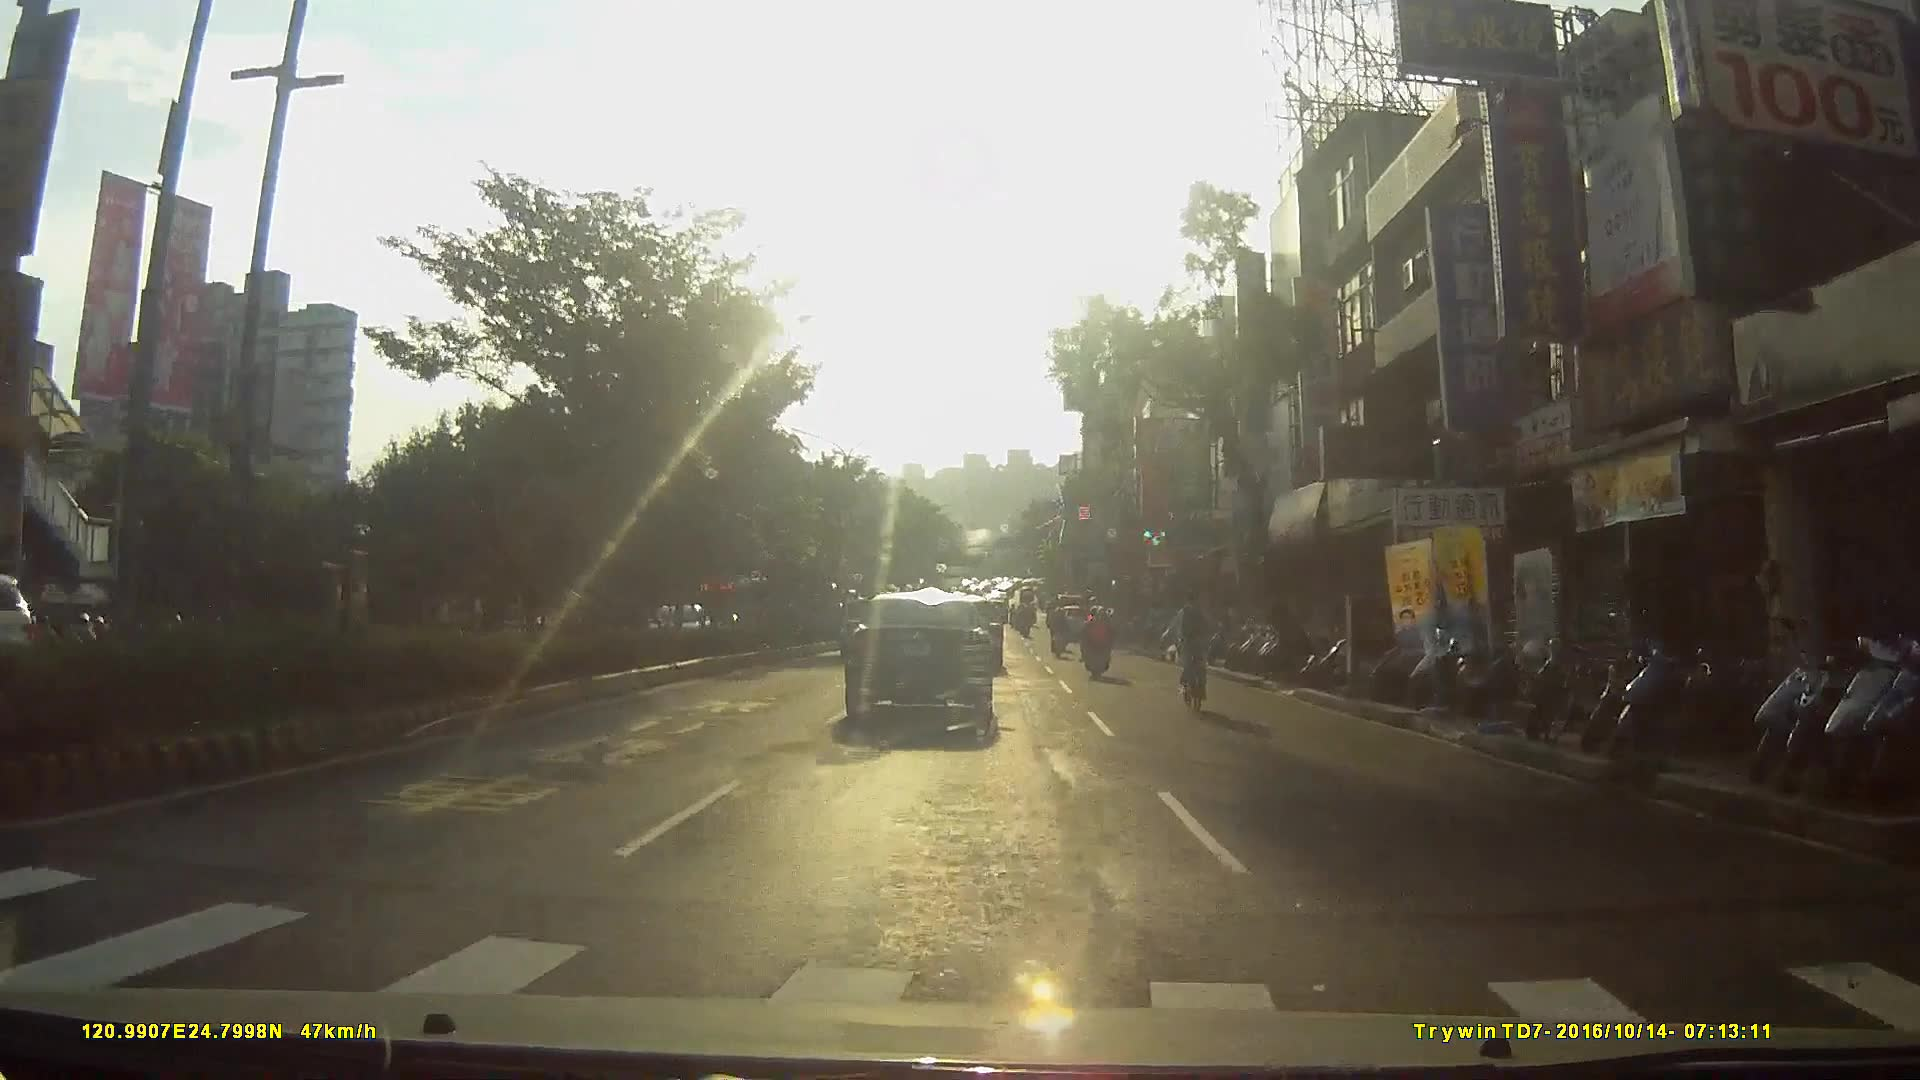rider: (1169, 585, 1227, 717), (1082, 612, 1116, 688), (1047, 608, 1072, 661)
vehicle: (844, 606, 1008, 752)
